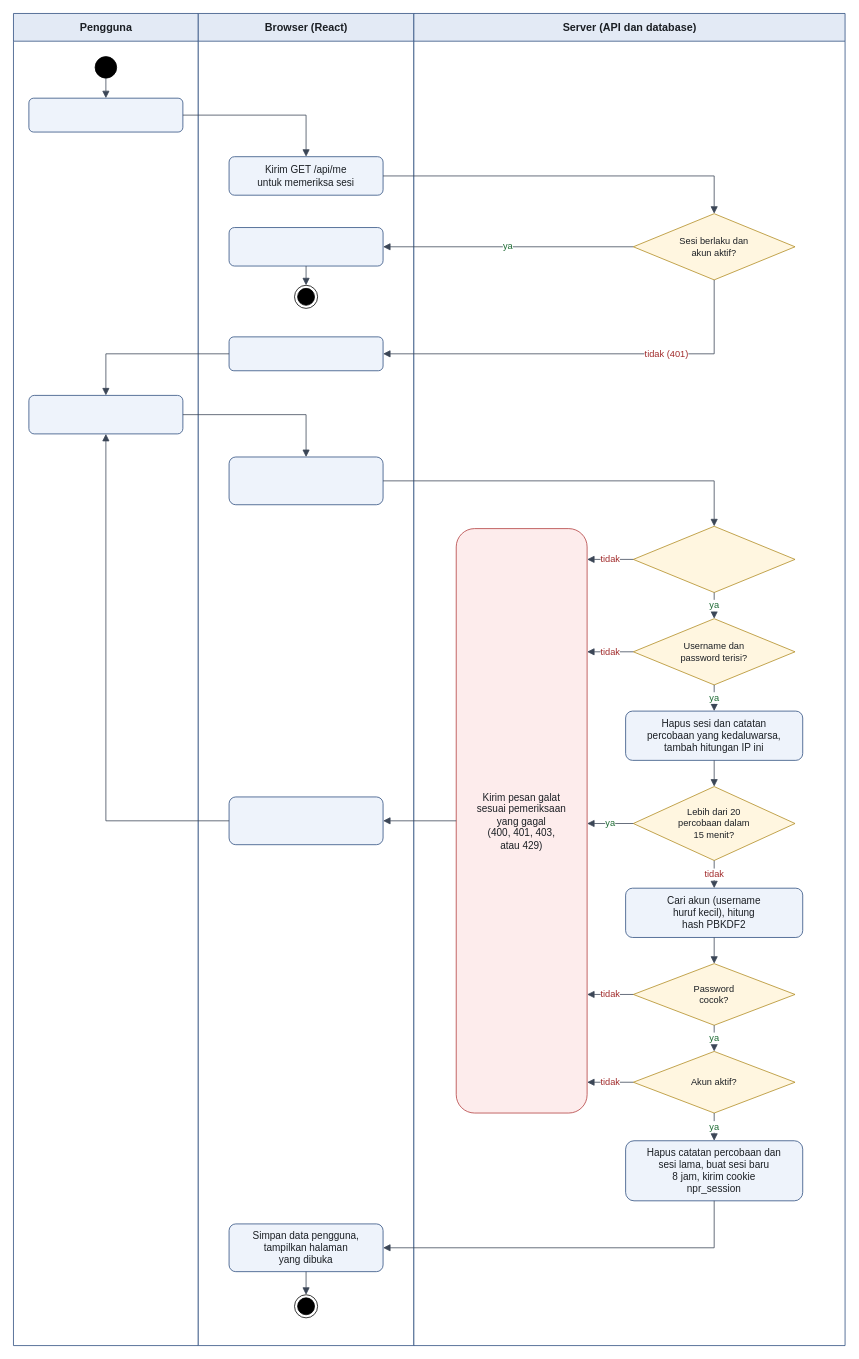
The diagram is 859 pixels wide and 1359 high, and some of its shapes have lost their labels. Each missing label, with the centre of its shape:
Buka alamat aplikasi: (105,114)
Isi username dan password, klik Masuk: (105,414)
Kirim POST /api/login (header Origin dari browser): (305,480)
Origin sama dengan alamat aplikasi?: (714,559)
Tampilkan form Login: (305,353)
Tampilkan halaman yang dibuka: (305,246)
Tampilkan pesan gagal di atas tombol Masuk: (305,820)
